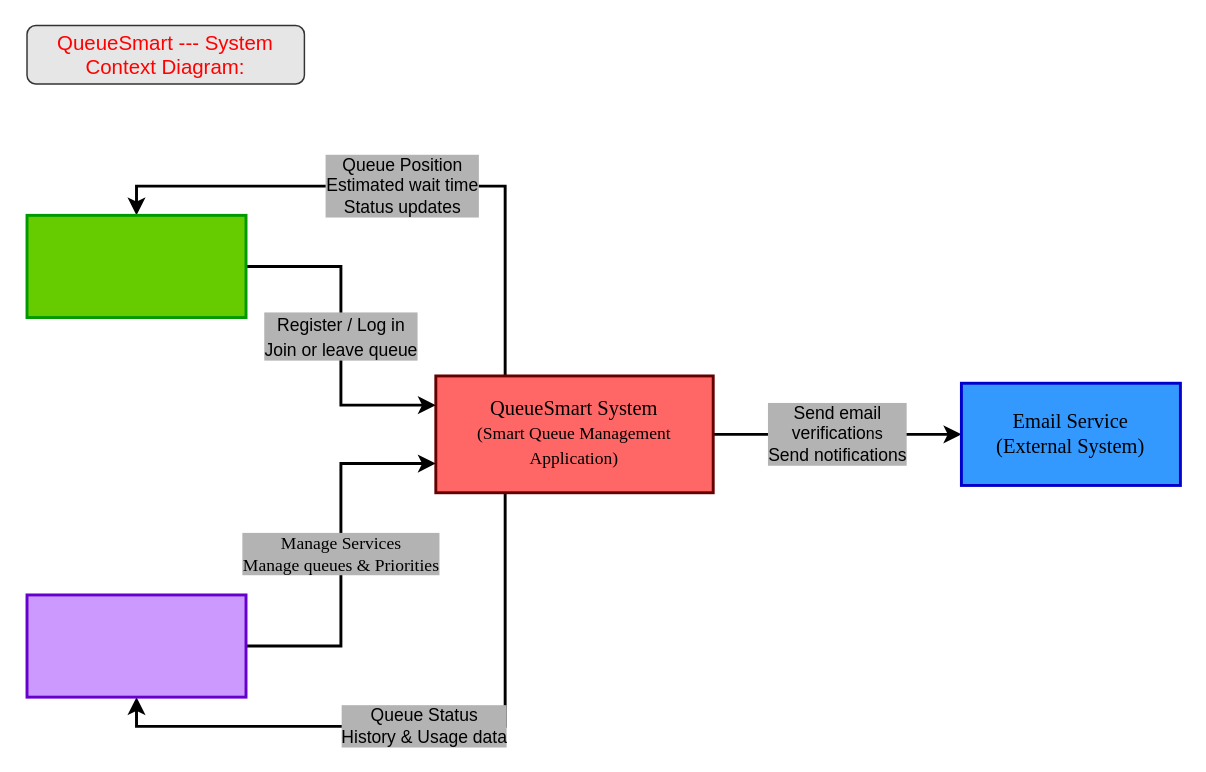
This 1206x772 diagram has some shape labels left out. The shapes that lost their labels are listed below. From the top down, each one's centre as x and y in pixels, then its label:
(136,265): User (Client / Patient / Student)
(136,645): Administrator (Service Manager / Staff)
